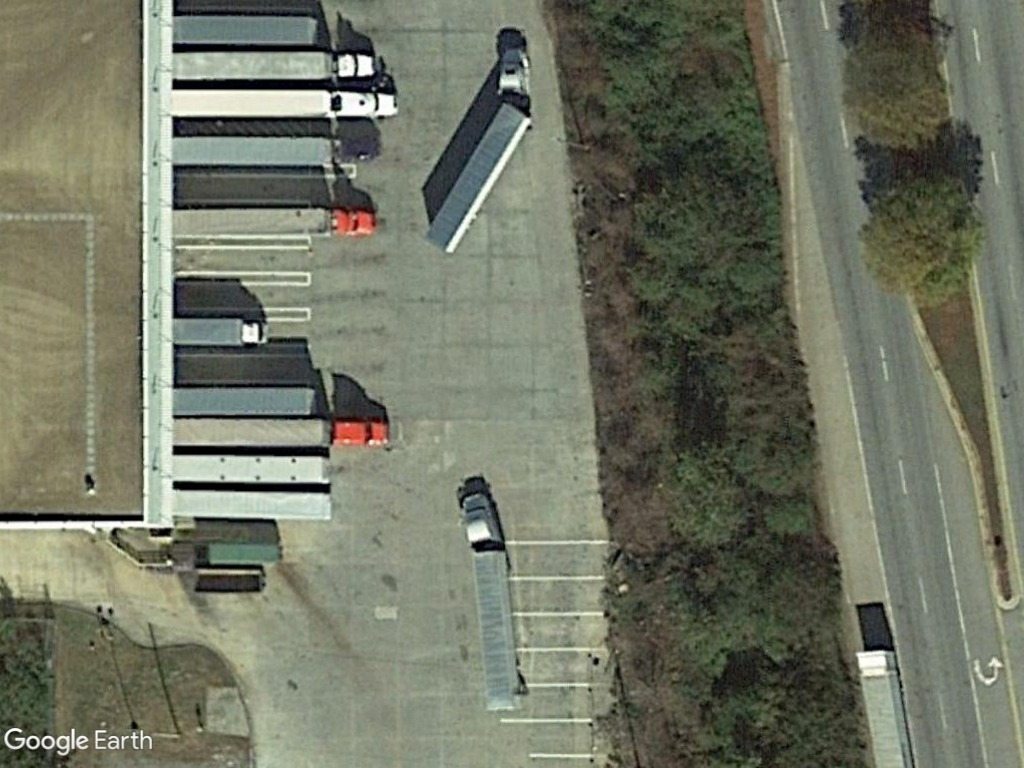longvehicle: (462, 491, 525, 716), (171, 205, 384, 243), (169, 88, 404, 122), (173, 416, 393, 450), (168, 49, 381, 83)
truck: (168, 310, 276, 347)
